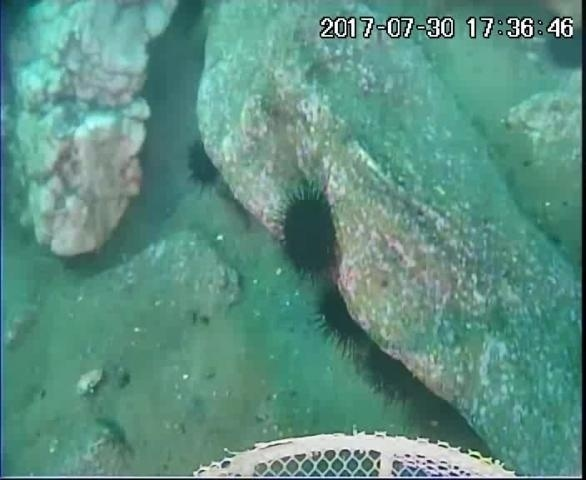echinus: (274, 184, 342, 279), (358, 345, 432, 410), (311, 284, 374, 356), (539, 16, 586, 76), (182, 138, 225, 194), (165, 0, 211, 42)
